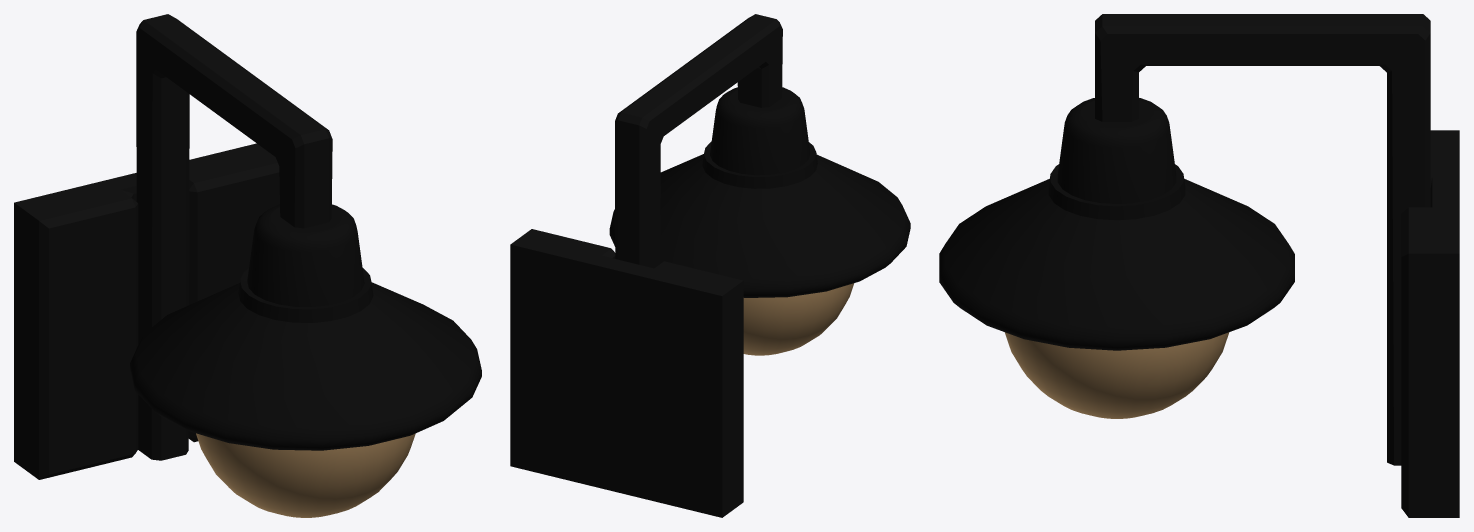
Rendered from h-004_light_04_F.FBX.
3 views of the same model, side by side, from view 1: azimuth 30°, elevation 25°; view 2: azimuth 150°, elevation 25°; view 3: azimuth 270°, elevation 25° (orthographic). The views are drawn at different scales.
Parts seen in each view (by area): view 1: h-004_light_04; view 2: h-004_light_04; view 3: h-004_light_04.
Boxes of the visible parts, x1,y1,x2,y2 form: h-004_light_04: (14, 14, 481, 517); h-004_light_04: (510, 14, 910, 517); h-004_light_04: (939, 14, 1459, 517).
Size of the model in its own units: 2.46 by 3.3 by 3.57.
